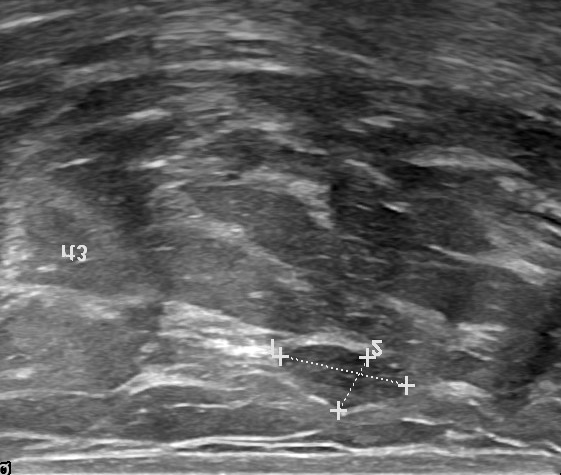Benign: (282, 339, 404, 412)
